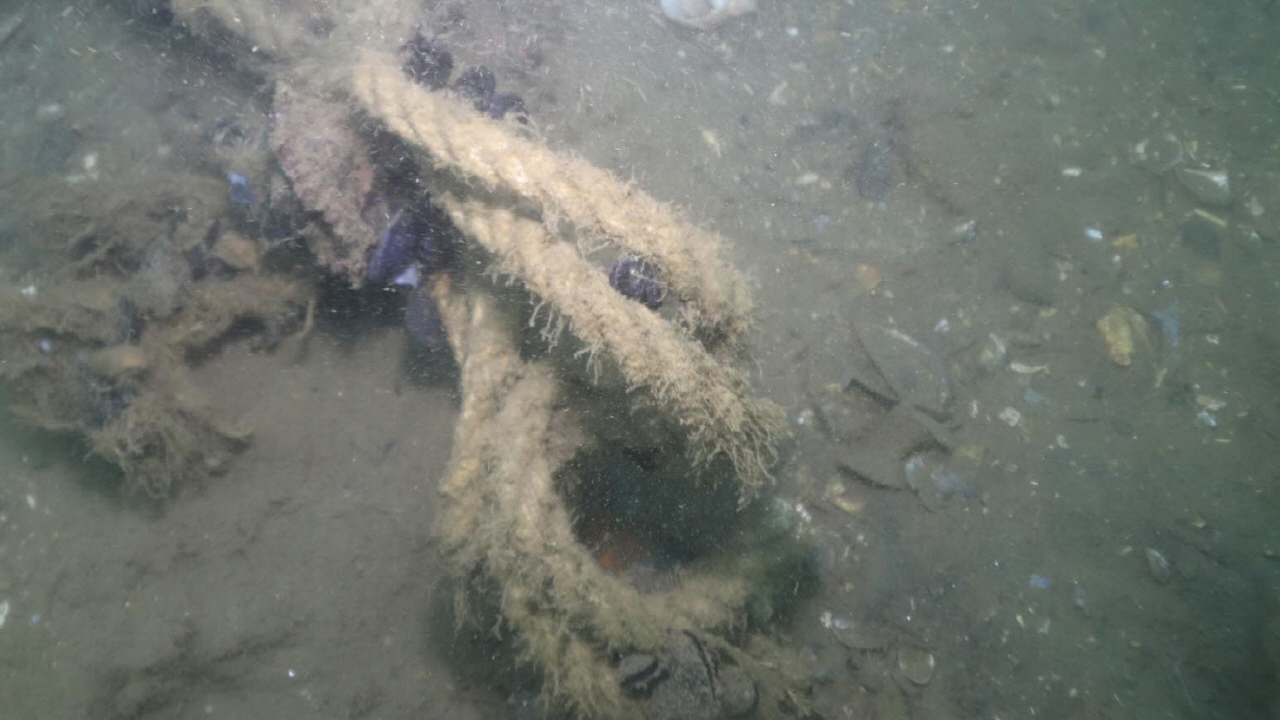bundle of ropes: (157, 0, 850, 720)
